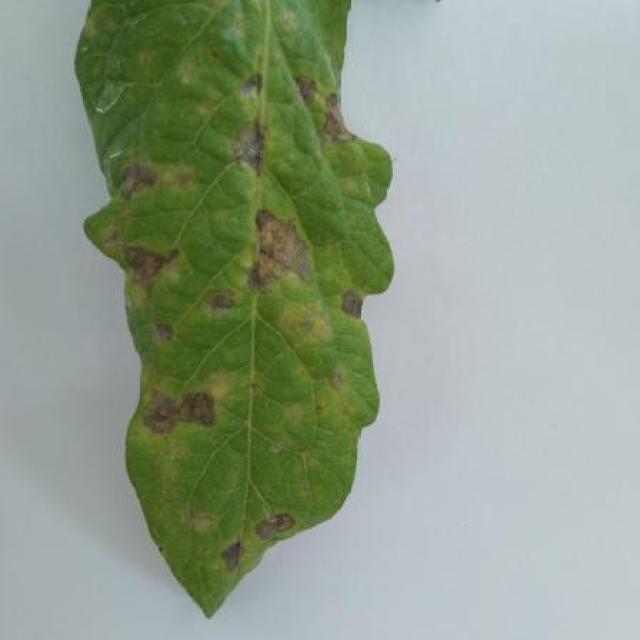Early Blight: (71, 0, 398, 620)
